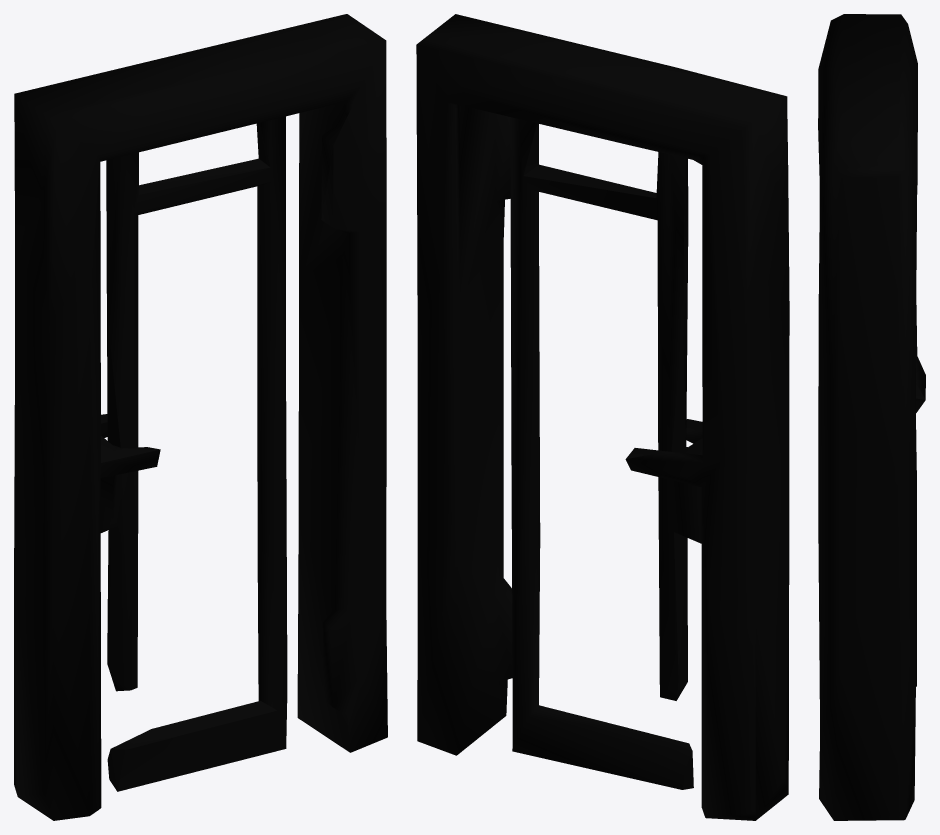
Rendered from black-steel-glass-door.glb.
3 views of the same model, side by side, from view 1: azimuth 30°, elevation 25°; view 2: azimuth 150°, elevation 25°; view 3: azimuth 270°, elevation 25° (orthographic). The views are drawn at different scales.
Visible parts, largest first — view 1: geometry_0.001; view 2: geometry_0.001; view 3: geometry_0.001.
Part boxes in pixels (x1=…): geometry_0.001: x1=14, y1=14, x2=387, y2=820; geometry_0.001: x1=416, y1=14, x2=789, y2=820; geometry_0.001: x1=818, y1=14, x2=925, y2=820.
Bounding box in the file's own units: 0.5051 × 0.9996 × 0.1484.
1 material, 1 textured.
